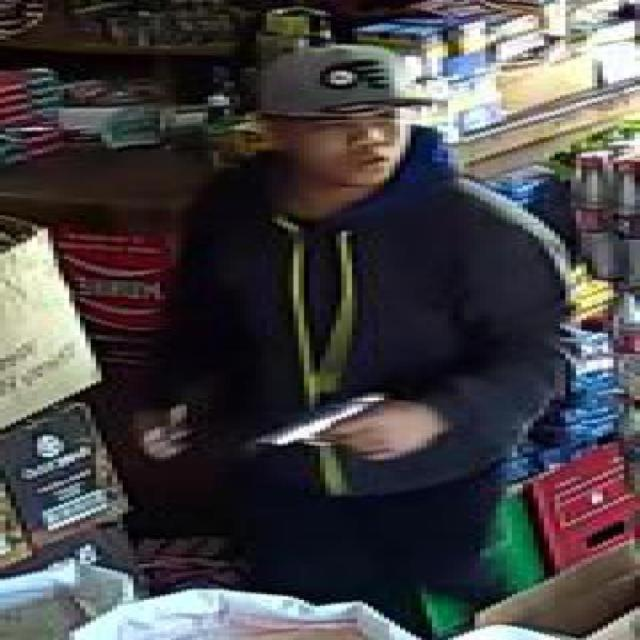pistol: (251, 390, 416, 460)
